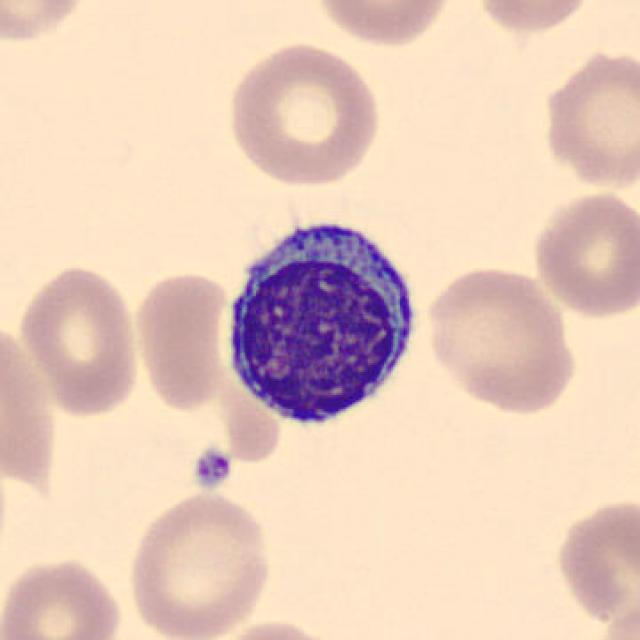Lymphocyte: (212, 204, 426, 436)
Platelets: (188, 444, 234, 494)
RBC: (220, 37, 386, 189), (422, 263, 582, 418), (122, 486, 275, 640), (12, 261, 146, 420), (130, 266, 233, 413), (537, 44, 638, 192), (528, 187, 638, 321), (550, 492, 638, 631), (0, 316, 62, 502), (0, 553, 126, 640), (307, 0, 458, 51), (471, 0, 599, 37), (0, 0, 94, 48), (204, 615, 350, 640), (592, 594, 640, 640)
